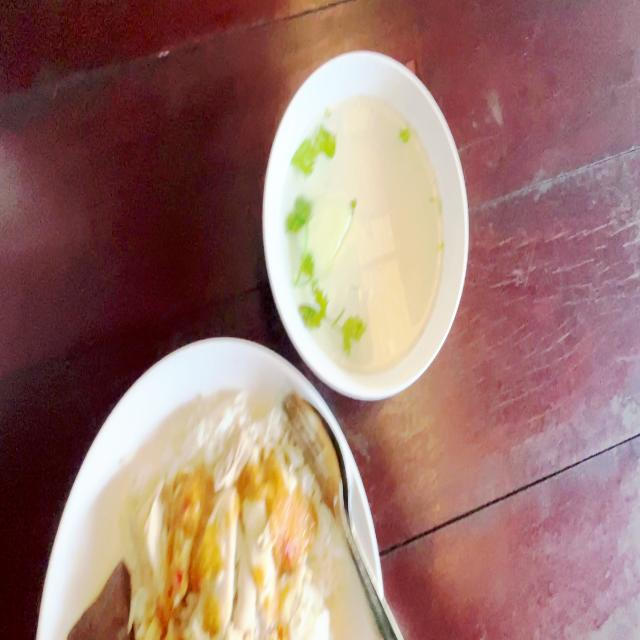boiled_chicken: (156, 467, 304, 640)
boiled_chicken_blood_jelly: (69, 549, 129, 640)
chicken_rice: (69, 396, 335, 640)
